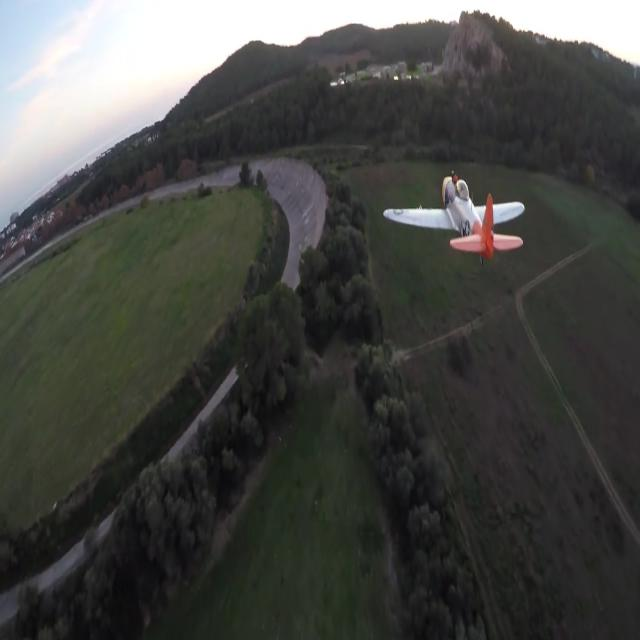iha: (377, 205, 520, 236)
